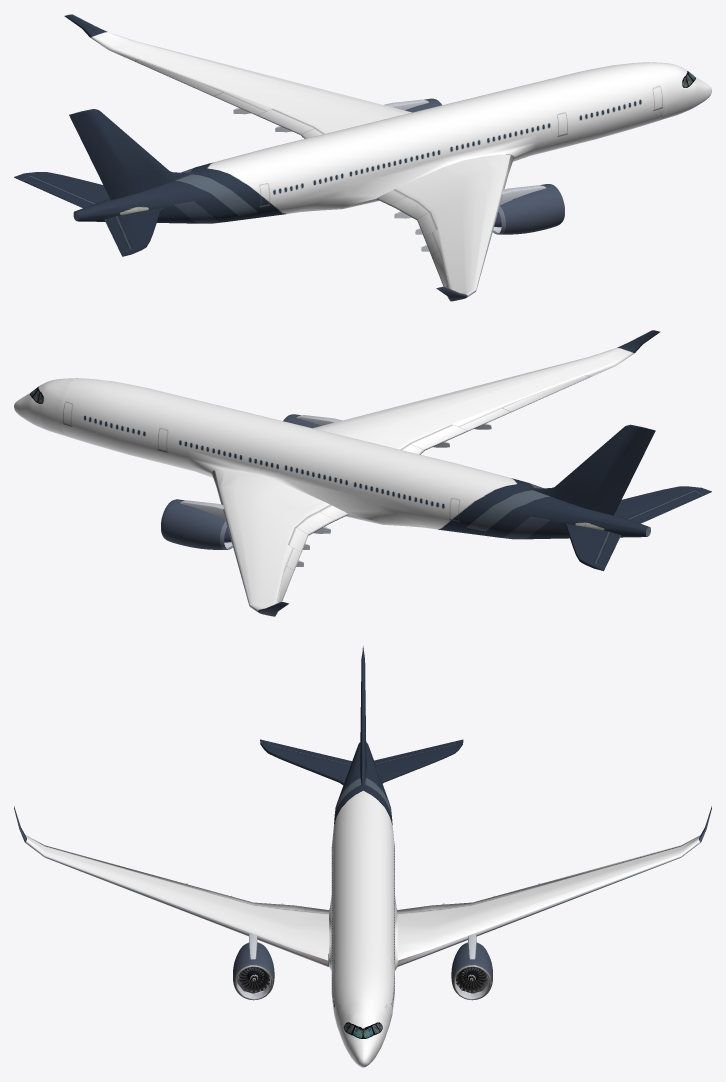
File: avion-pieces.glb
3 views of the same model, one above another, from view 1: azimuth 30°, elevation 25°; view 2: azimuth 150°, elevation 25°; view 3: azimuth 270°, elevation 25° (orthographic). The views are drawn at different scales.
Parts seen in each view (by area): view 1: fuselage, aile_G, aile_D, derive, nacelle_D, cockpit, stabilisateur_G, stabilisateur_D; view 2: fuselage, aile_D, aile_G, derive, nacelle_G, cockpit, stabilisateur_D, stabilisateur_G; view 3: fuselage, aile_D, aile_G, cockpit, stabilisateur_D, stabilisateur_G, nacelle_G, nacelle_D, derive, soufflante_G, soufflante_D.
Boxes of the visible parts, <box> form: fuselage: <box>73,62,665,223</box>; aile_G: <box>64,14,411,138</box>; aile_D: <box>376,154,514,301</box>; derive: <box>69,109,195,200</box>; nacelle_D: <box>492,184,564,234</box>; cockpit: <box>648,62,711,120</box>; stabilisateur_G: <box>14,172,109,208</box>; stabilisateur_D: <box>104,207,163,256</box>; fuselage: <box>60,378,650,539</box>; aile_D: <box>313,330,660,454</box>; aile_G: <box>211,470,348,616</box>; derive: <box>529,424,655,515</box>; nacelle_G: <box>161,499,232,549</box>; cockpit: <box>14,378,76,436</box>; stabilisateur_D: <box>615,486,711,523</box>; stabilisateur_G: <box>564,523,620,570</box>; fuselage: <box>329,742,397,1028</box>; aile_D: <box>14,806,331,966</box>; aile_G: <box>395,806,711,966</box>; cockpit: <box>337,997,388,1067</box>; stabilisateur_D: <box>260,739,351,785</box>; stabilisateur_G: <box>374,739,463,783</box>; nacelle_G: <box>451,942,492,1000</box>; nacelle_D: <box>233,942,274,1000</box>; derive: <box>360,646,366,785</box>; soufflante_G: <box>456,967,488,993</box>; soufflante_D: <box>237,967,269,993</box>.
Size of the model in its own units: 67.41 by 17.14 by 67.47.
Materials: 1 (1 with a texture image).
